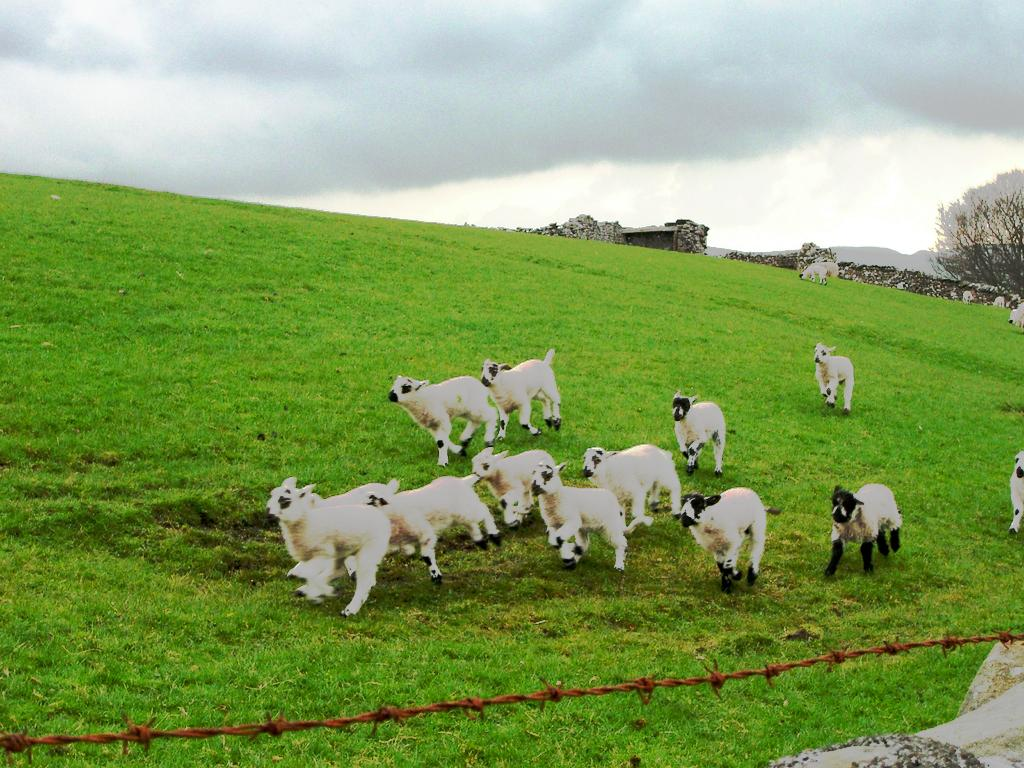Sheep: (264, 475, 389, 617), (354, 474, 498, 584), (531, 458, 645, 569), (288, 476, 402, 578), (826, 474, 909, 588), (390, 374, 494, 462), (678, 488, 766, 590), (583, 447, 686, 526), (481, 346, 562, 439), (469, 446, 552, 522), (668, 393, 724, 474), (808, 338, 857, 411), (1006, 450, 1023, 537), (798, 265, 827, 284), (812, 261, 838, 277), (961, 288, 975, 307), (990, 295, 1006, 310), (1008, 305, 1020, 325)
